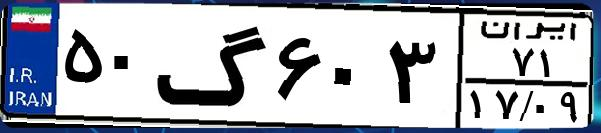0: (330, 28, 385, 110), (110, 28, 156, 98), (535, 70, 560, 125)
1: (537, 27, 568, 80), (470, 70, 495, 125)
3: (385, 28, 445, 110)
5: (57, 26, 110, 100)
6: (270, 28, 330, 110)
7: (508, 27, 537, 80), (495, 70, 520, 125)
9: (560, 70, 590, 125)
گ: (156, 12, 270, 120)
